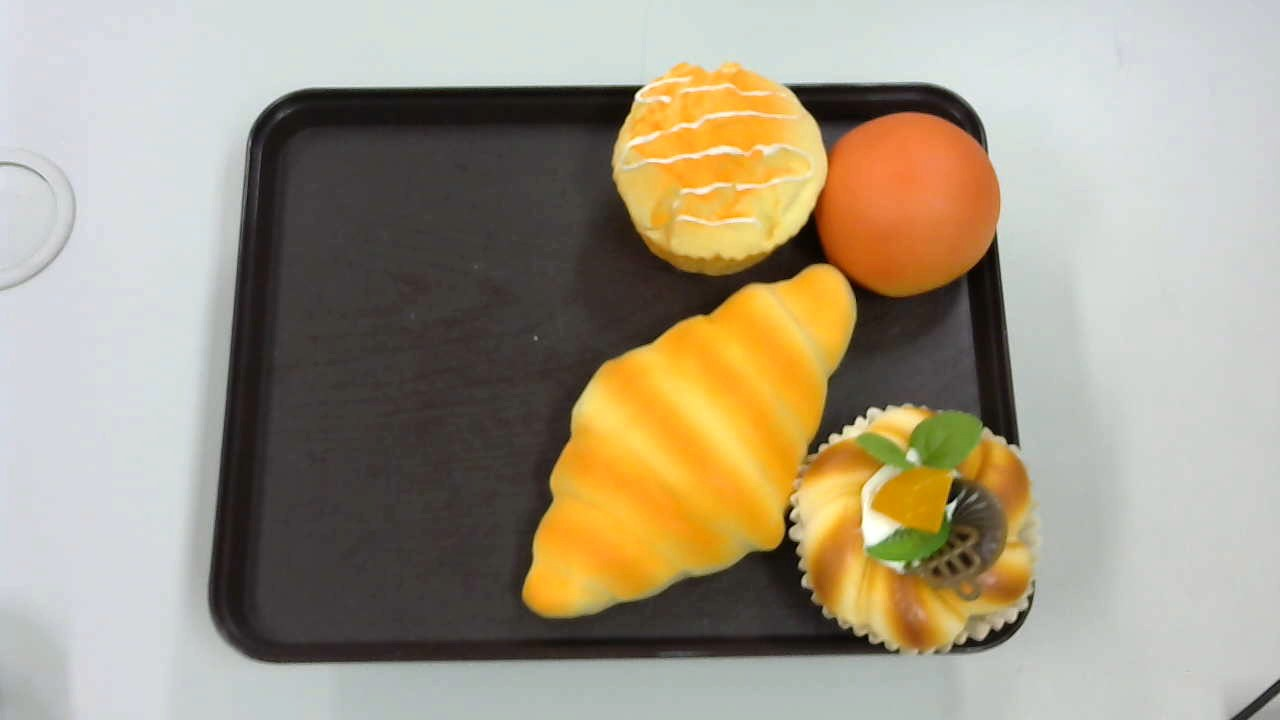bun: (816, 112, 1002, 297)
croissant: (521, 262, 858, 619)
cupcake: (611, 61, 829, 279)
fruit tart: (790, 400, 1042, 653)
